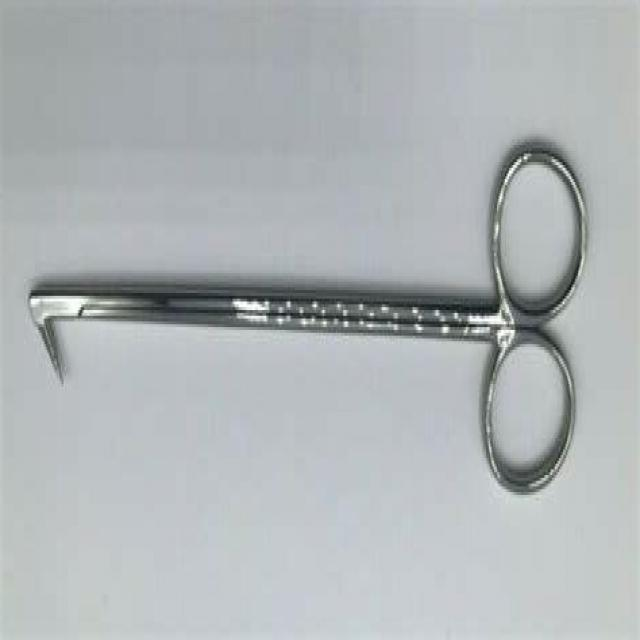Potts: (23, 128, 589, 509)
